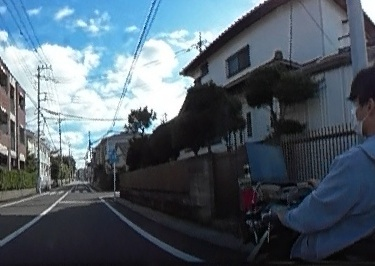person: (274, 64, 375, 253)
